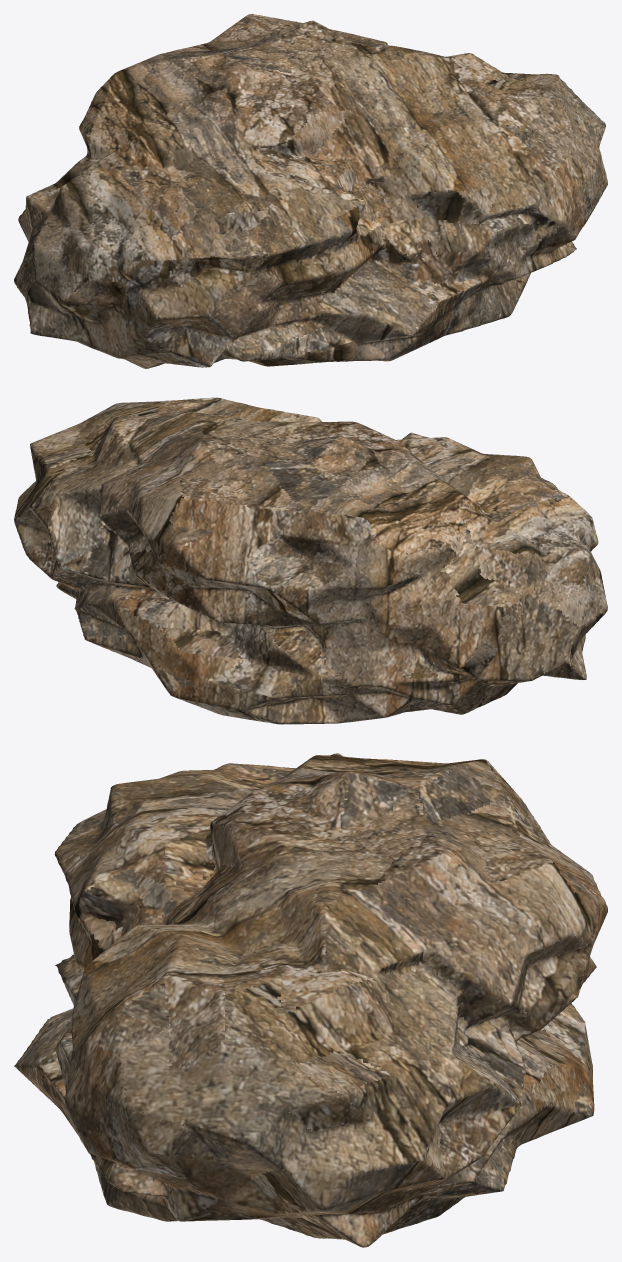
Rendered from moss-boulder-v01.glb.
3 views of the same model, one above another, from view 1: azimuth 30°, elevation 25°; view 2: azimuth 150°, elevation 25°; view 3: azimuth 270°, elevation 25° (orthographic). The views are drawn at different scales.
Visible parts, largest first — view 1: moss-boulder-v01 detailed; view 2: moss-boulder-v01 detailed; view 3: moss-boulder-v01 detailed.
Boxes of the visible parts, <box> form: moss-boulder-v01 detailed: <box>14,14,607,368</box>; moss-boulder-v01 detailed: <box>14,397,607,724</box>; moss-boulder-v01 detailed: <box>14,753,607,1247</box>.
Size of the model in its own units: 3.41 by 1.55 by 2.32.
Materials: 1 (1 with a texture image).
